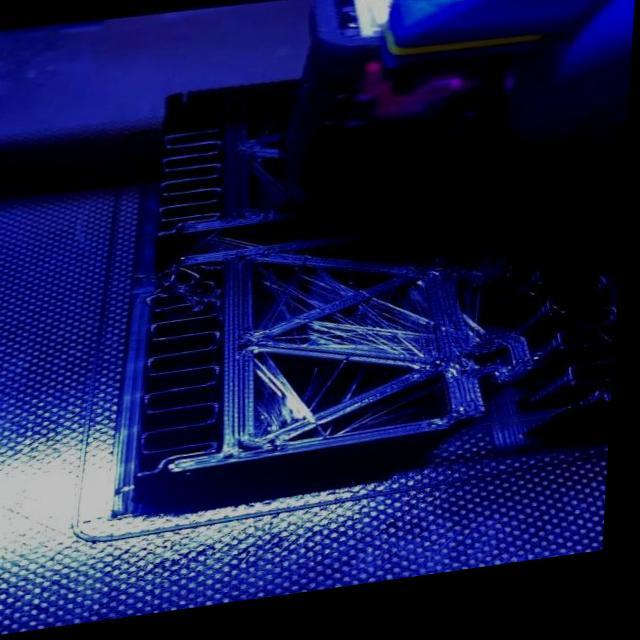stringing: (262, 360, 330, 440), (345, 397, 445, 440), (320, 323, 400, 363), (295, 375, 354, 423), (270, 279, 318, 326), (363, 310, 412, 353), (302, 282, 342, 314), (392, 345, 438, 371), (404, 320, 434, 345)
